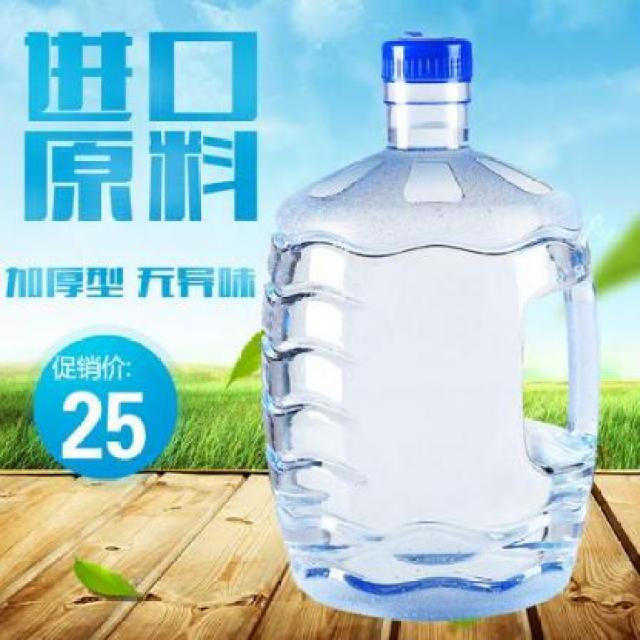coolerbottle: (252, 28, 607, 632)
